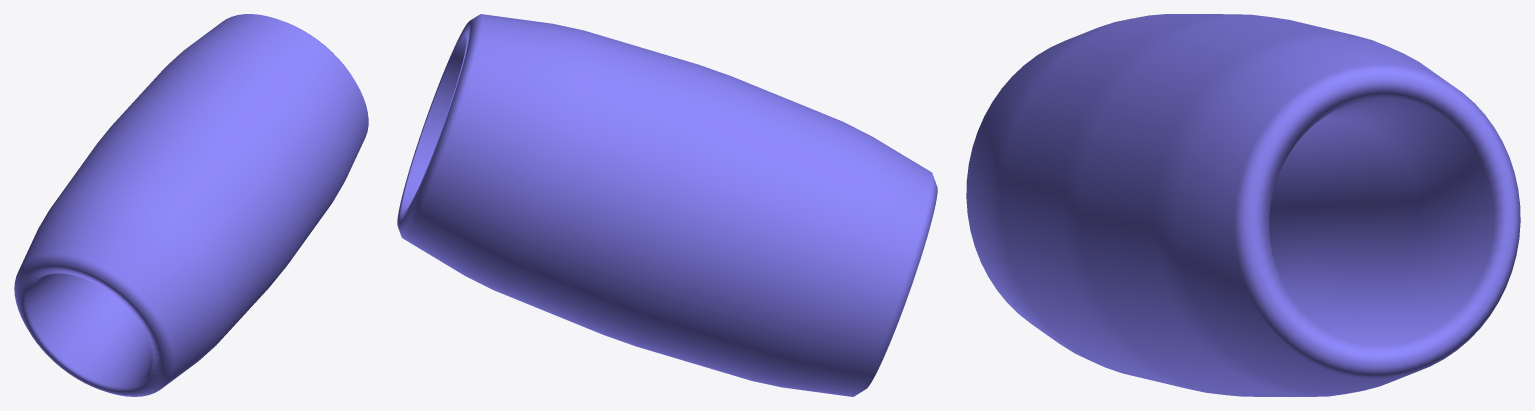
3 views of the same model, side by side, from view 1: azimuth 30°, elevation 25°; view 2: azimuth 150°, elevation 25°; view 3: azimuth 270°, elevation 25° (orthographic). The views are drawn at different scales.
Parts seen in each view (by area): view 1: Tube_low; view 2: Tube_low; view 3: Tube_low.
Boxes of the visible parts, box(x1,y1,x2,y2) form: Tube_low: box(14, 14, 368, 396); Tube_low: box(397, 14, 937, 396); Tube_low: box(966, 14, 1520, 396).
Bounding box in the file's own units: 0.8432 × 0.6082 × 0.6576.
